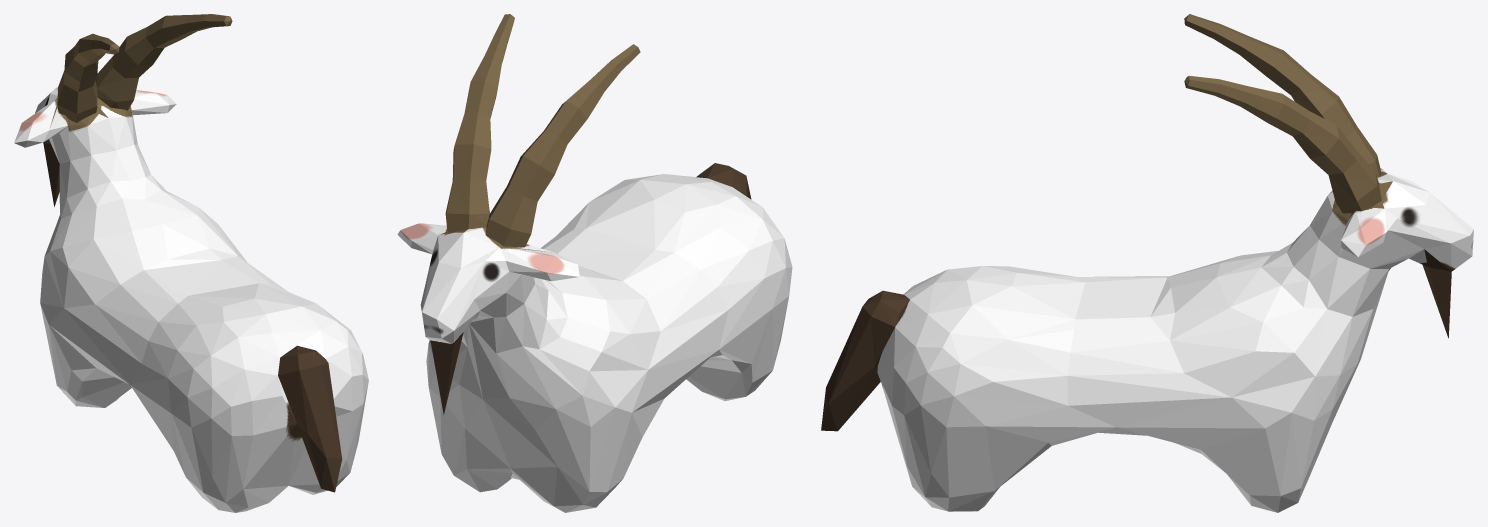
File: animal_ibex_female_blob.obj
3 renders of one model, left to right at view 1: azimuth 30°, elevation 25°; view 2: azimuth 150°, elevation 25°; view 3: azimuth 270°, elevation 25°, orthographic. The views are drawn at different scales.
Parts seen in each view (by area): view 1: animal_ibex_female_blob; view 2: animal_ibex_female_blob; view 3: animal_ibex_female_blob.
Part boxes in pixels (x1=…): animal_ibex_female_blob: x1=14, y1=14, x2=368, y2=512; animal_ibex_female_blob: x1=397, y1=14, x2=792, y2=512; animal_ibex_female_blob: x1=821, y1=14, x2=1473, y2=512.
Bounding box in the file's own units: 0.4418 × 0.9304 × 1.24.
